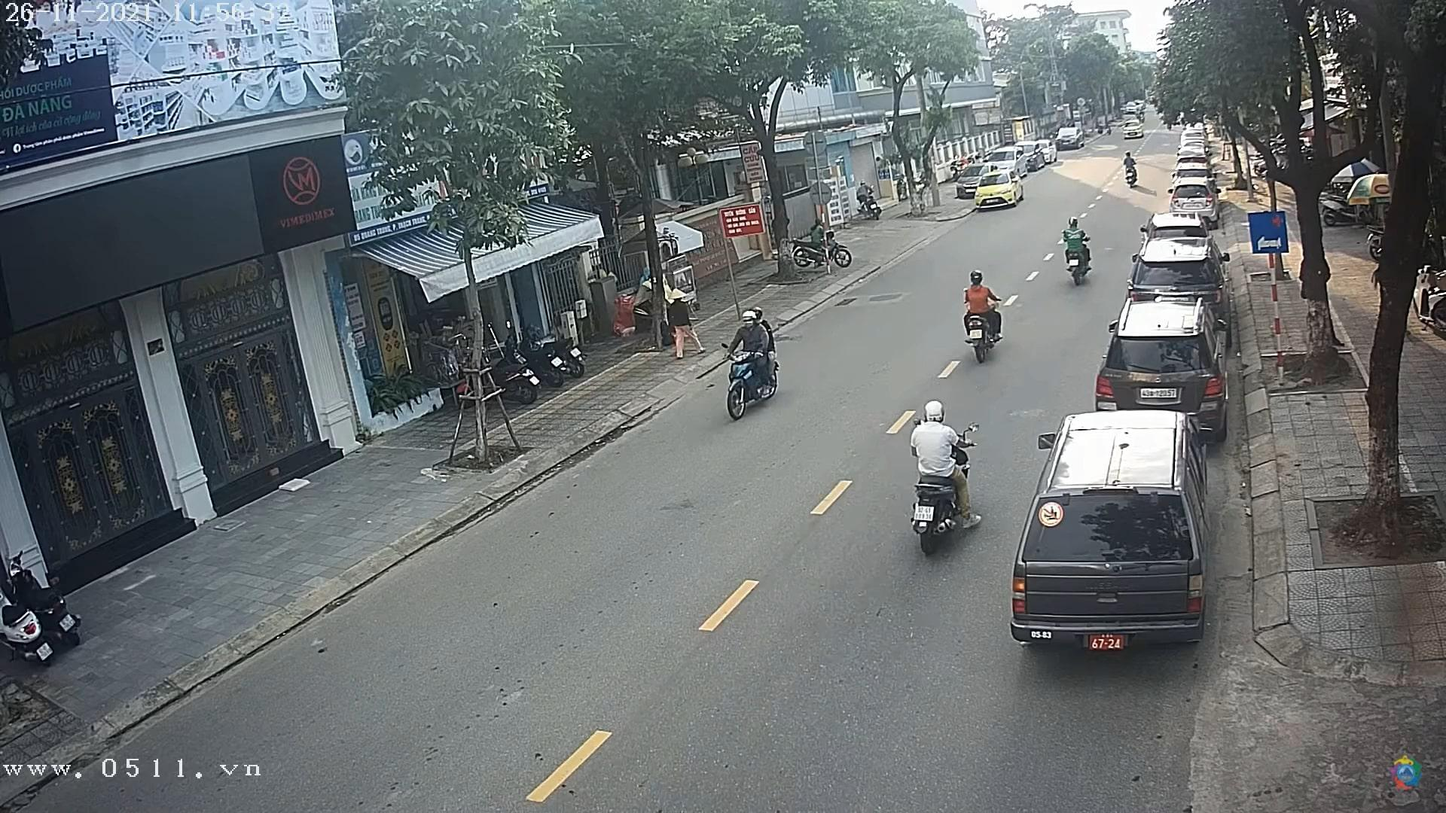car: (1011, 413, 1206, 650), (1097, 298, 1226, 424), (1127, 239, 1226, 302), (973, 168, 1023, 209), (1057, 126, 1087, 148)
motorbike: (910, 443, 980, 555), (720, 343, 784, 424), (962, 303, 1002, 362), (1059, 242, 1094, 285)
